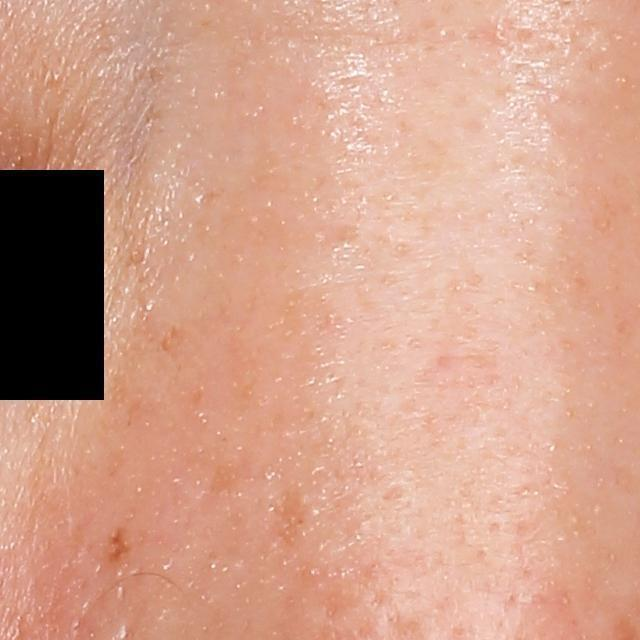melasma: (104, 365, 146, 432), (271, 482, 310, 554), (206, 459, 260, 502), (156, 322, 190, 360)
